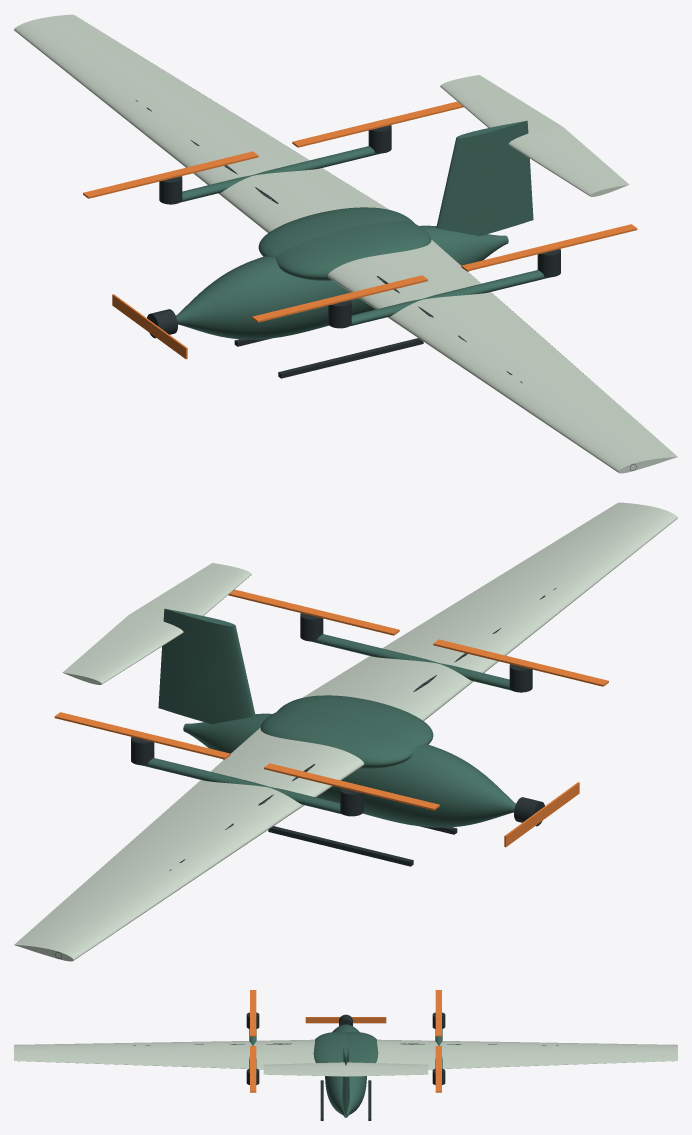
Rendered from control-07-model.glb.
3 views of the same model, one above another, from view 1: azimuth 30°, elevation 25°; view 2: azimuth 150°, elevation 25°; view 3: azimuth 270°, elevation 25° (orthographic). The views are drawn at different scales.
Visible parts, largest first — view 1: wing-1, wing1, fuselage, fin, root_fairing-1, tail-1, tail1, root_fairing1, boom_fairing-1, boom_fairing1, prop_-1_700.0, prop_-1_200.0 (+4 smaller); view 2: wing1, wing-1, fuselage, fin, root_fairing1, tail1, tail-1, root_fairing-1, boom_fairing1, boom_fairing-1, prop_1_700.0, prop_1_200.0 (+4 smaller); view 3: wing-1, wing1, fuselage, tail-1, tail1, root_fairing-1, root_fairing1, cruise_prop, fin, prop_-1_200.0, prop_-1_700.0, prop_1_200.0 (+1 smaller).
Part boxes in pixels (box(x1,y1,x2,y2)): wing-1: box(327, 239, 677, 473); wing1: box(14, 14, 389, 232); fuselage: box(176, 225, 508, 339); fin: box(436, 120, 533, 236); root_fairing-1: box(275, 221, 431, 280); tail-1: box(508, 127, 629, 196); tail1: box(440, 75, 562, 133); root_fairing1: box(258, 207, 414, 257); boom_fairing-1: box(350, 270, 549, 326); boom_fairing1: box(180, 146, 381, 202); prop_-1_700.0: box(461, 224, 637, 271); prop_-1_200.0: box(252, 275, 427, 322); wing1: box(14, 727, 364, 961); wing-1: box(302, 502, 677, 720); fuselage: box(183, 713, 515, 827); fin: box(158, 608, 255, 724); root_fairing1: box(260, 709, 416, 768); tail1: box(62, 615, 183, 684); tail-1: box(129, 563, 251, 621); root_fairing-1: box(277, 695, 433, 745); boom_fairing1: box(142, 758, 341, 814); boom_fairing-1: box(310, 634, 511, 690); prop_1_700.0: box(54, 712, 230, 759); prop_1_200.0: box(264, 763, 439, 810); wing-1: box(14, 1039, 315, 1069); wing1: box(376, 1039, 677, 1069); fuselage: box(325, 1024, 366, 1117); tail-1: box(263, 1062, 345, 1076); tail1: box(346, 1062, 428, 1076); root_fairing-1: box(313, 1032, 345, 1063); root_fairing1: box(346, 1032, 378, 1063); cruise_prop: box(305, 1017, 386, 1023); fin: box(342, 1039, 349, 1114); prop_-1_200.0: box(250, 990, 256, 1036); prop_-1_700.0: box(250, 1046, 256, 1092); prop_1_200.0: box(435, 990, 441, 1036).
Bounding box in the file's own units: 989 × 400 × 2500.
